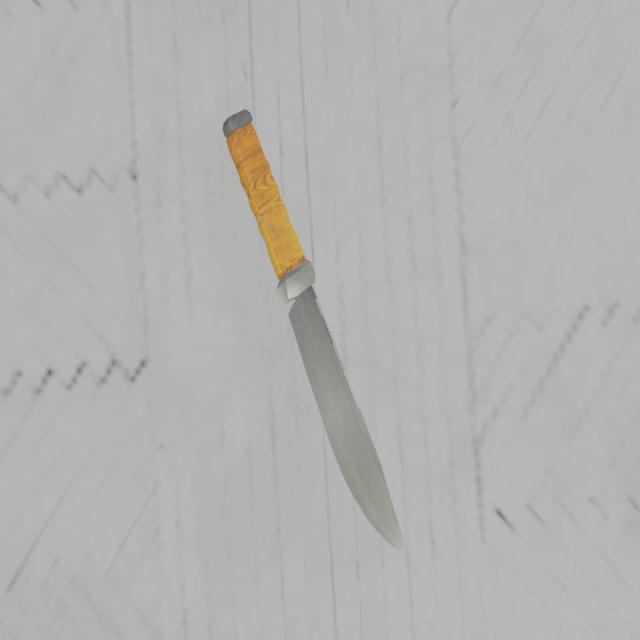knife: (228, 109, 311, 299)
